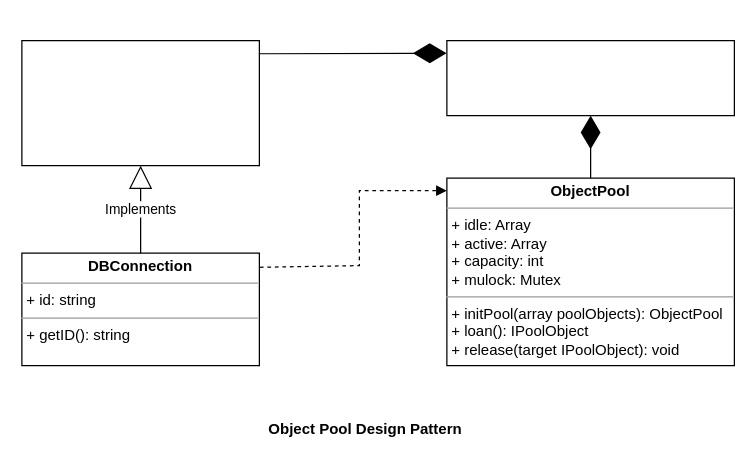
Image size: 756x463. Some labels were removed from this diagram. Here are the shapes that lost their labels. From the top down, the centre of each, then its label:
(x=590, y=77): Client + getObject(): IPoolObject
(x=140, y=102): <<Interface>> IPoolObject - id: string + getID(): string
